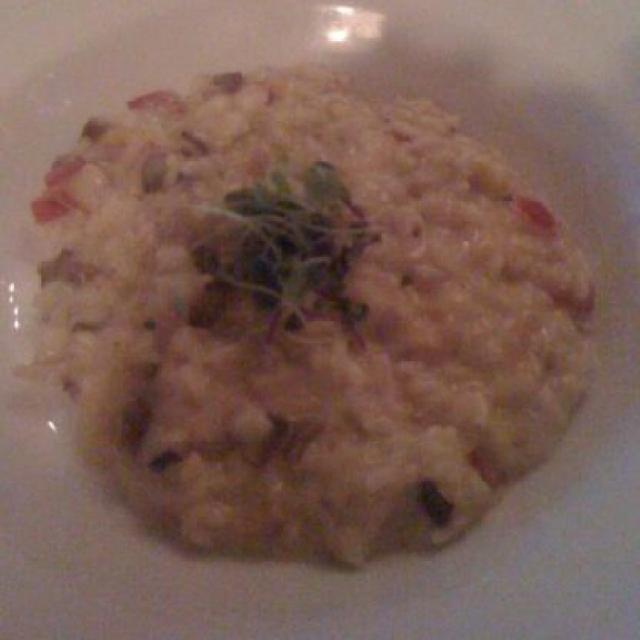Risotto: (27, 129, 605, 560)
